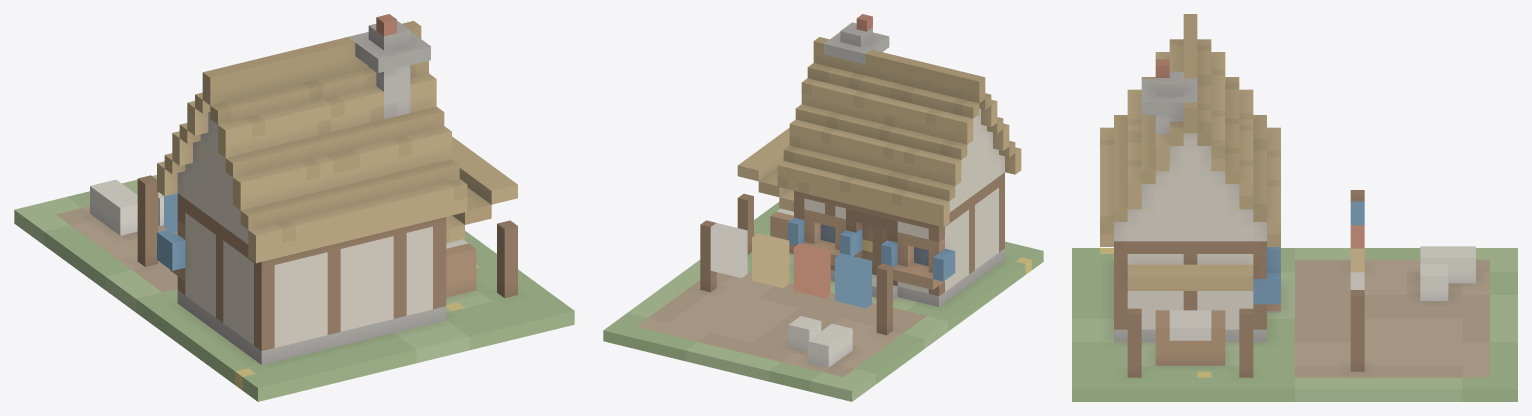
Rendered from weaver_wool.glb.
The picture shows the model from 3 angles, left to right: view 1: azimuth 30°, elevation 25°; view 2: azimuth 150°, elevation 25°; view 3: azimuth 270°, elevation 25°; orthographic projection. The views are drawn at different scales.
Parts seen in each view (by area): view 1: weaver_wool; view 2: weaver_wool; view 3: weaver_wool.
Part boxes in pixels (x1=…): weaver_wool: x1=14, y1=14, x2=574, y2=401; weaver_wool: x1=603, y1=14, x2=1043, y2=401; weaver_wool: x1=1072, y1=14, x2=1517, y2=401.
Bounding box in the file's own units: 3 × 2.75 × 4.
